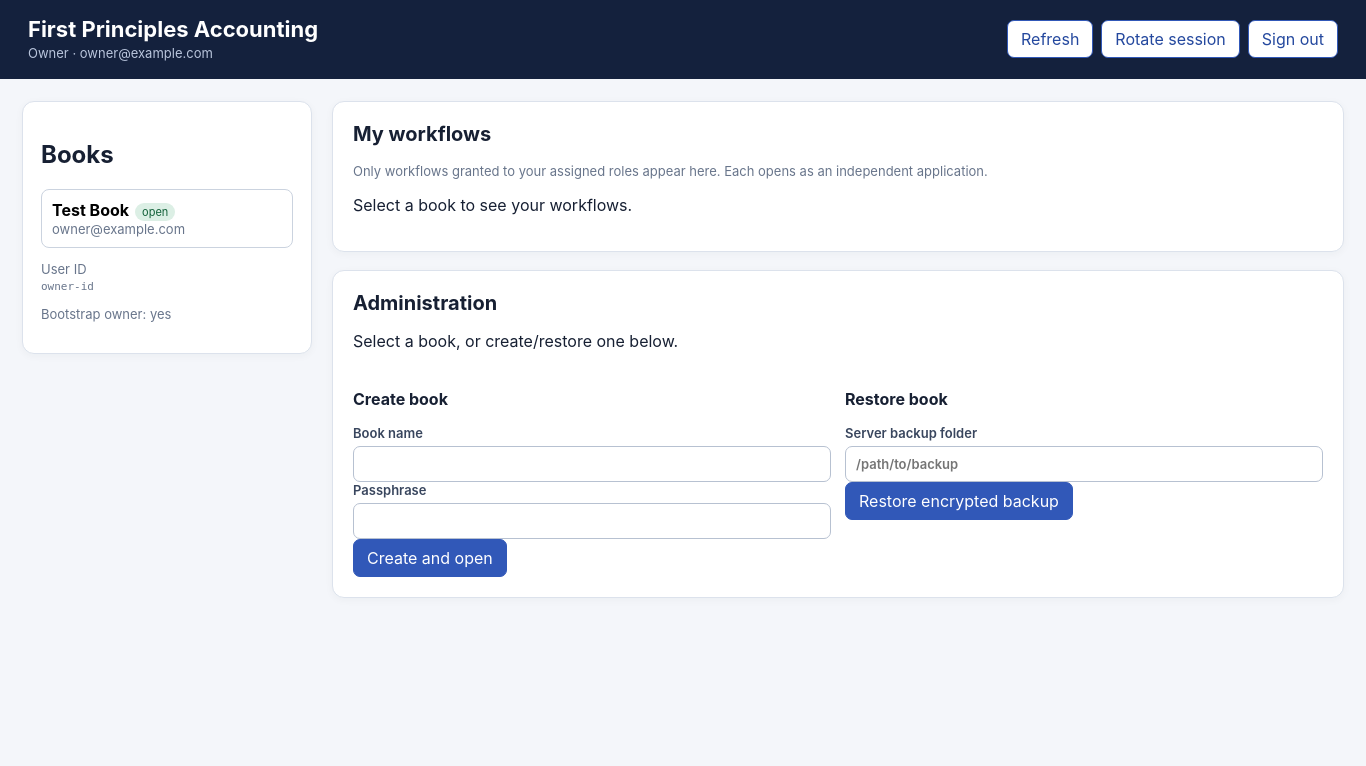
Test: FPA application shell › shows a rejected journal entry beside the form and restores its submit button
The image size is (1366, 766).
Click the button "Test Book open owner@example.com". click: {"x": 167, "y": 218}
box: [41, 189, 293, 248]
(page scrolled)
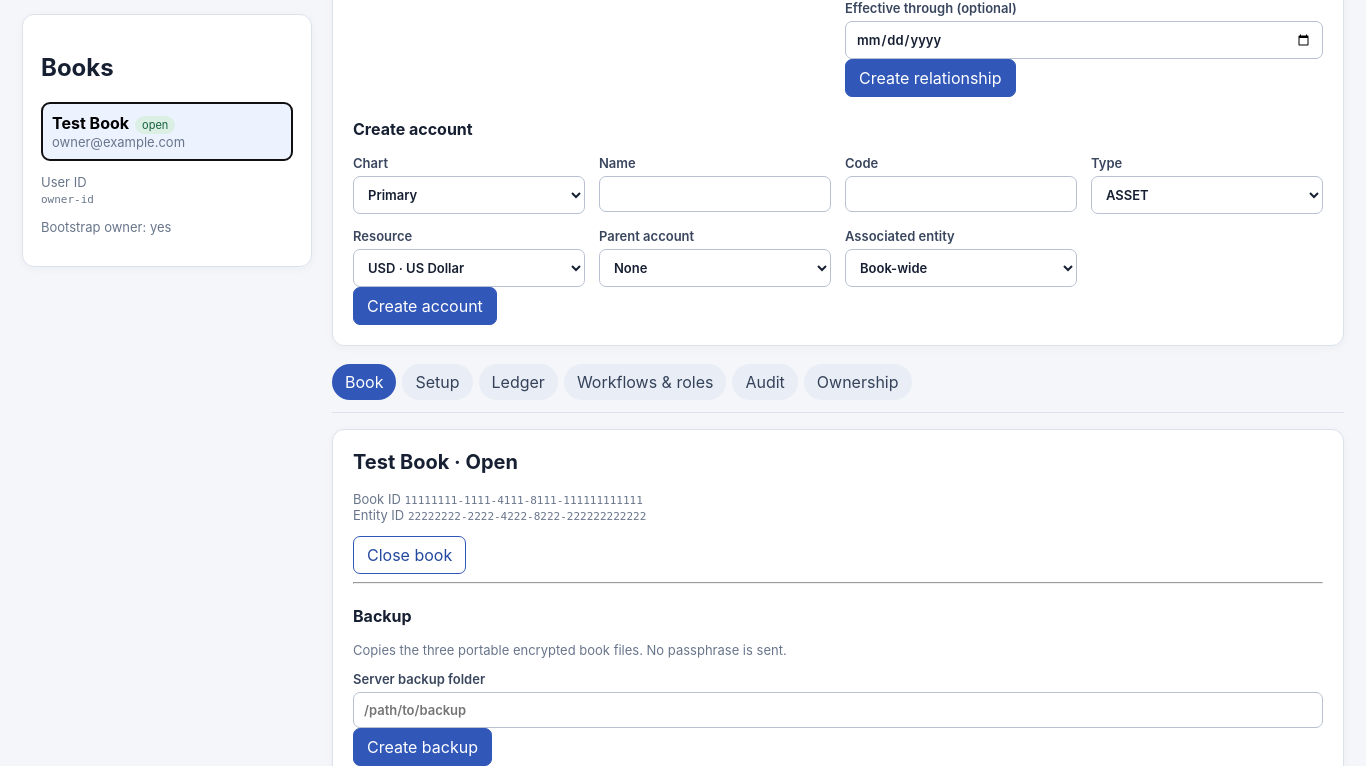
Click the button "Ledger". click: {"x": 518, "y": 382}
box: [478, 364, 558, 400]
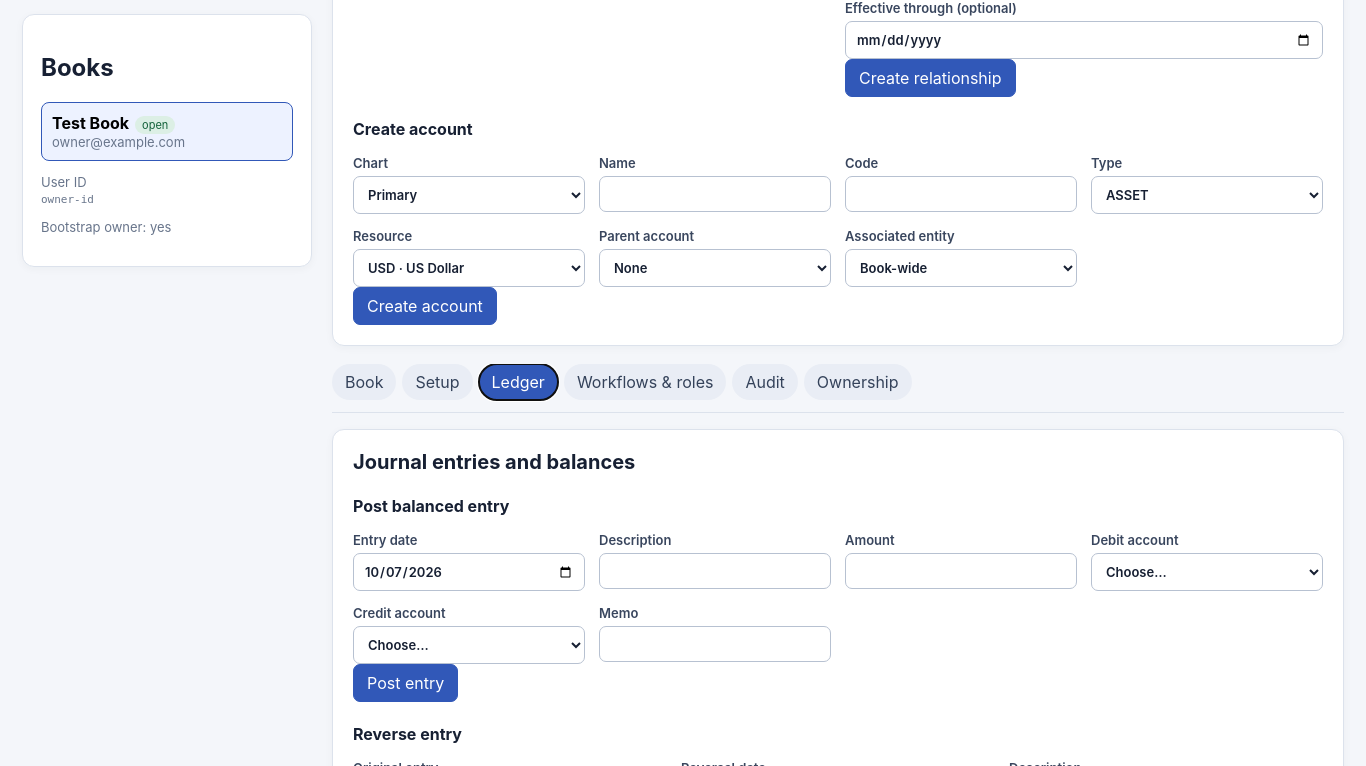
Type "Filing fee" into the field labelled "Description". click: {"x": 715, "y": 571}
box: [599, 553, 831, 589]
Type "75.00" into the field labelled "Amount". click: {"x": 961, "y": 571}
box: [845, 553, 1077, 589]
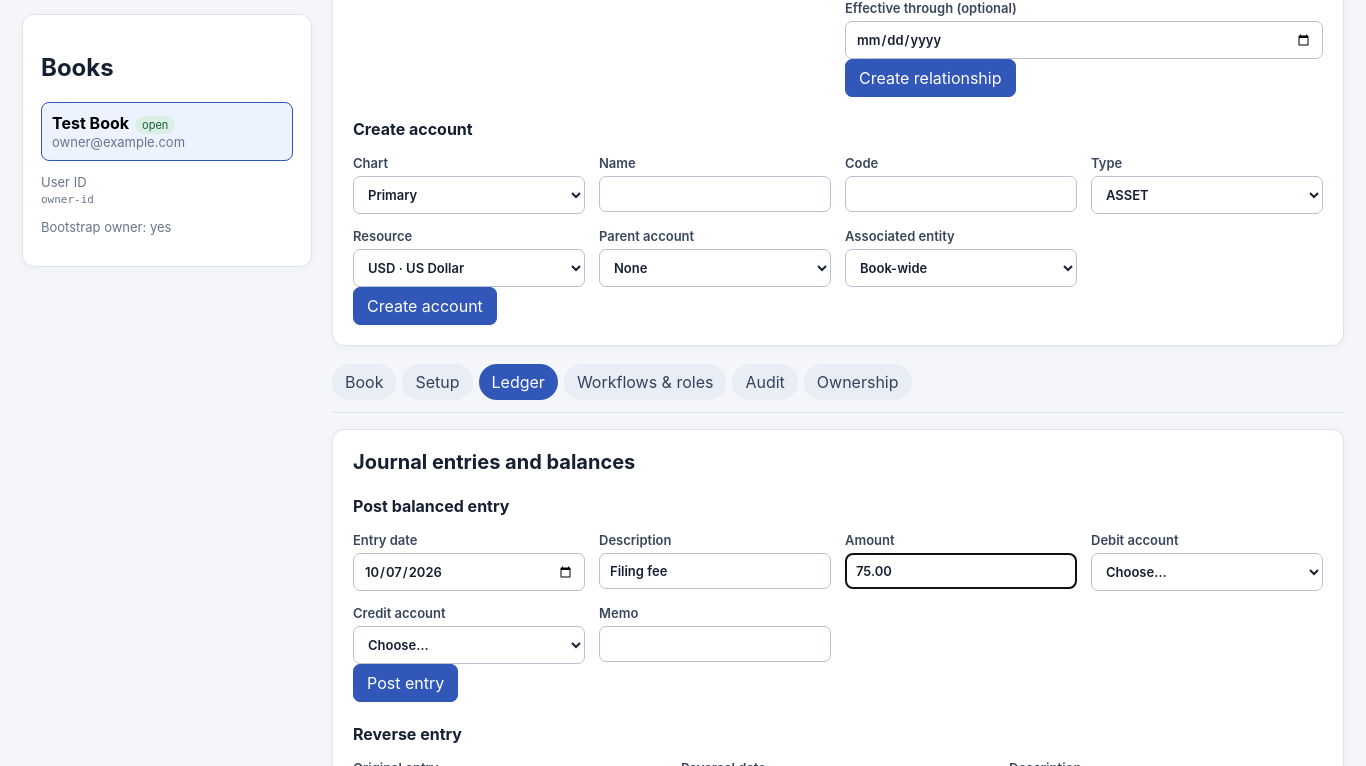
Select "Expense" in the dropdown labelled "Debit account". click: {"x": 1207, "y": 572}
box: [1091, 553, 1323, 591]
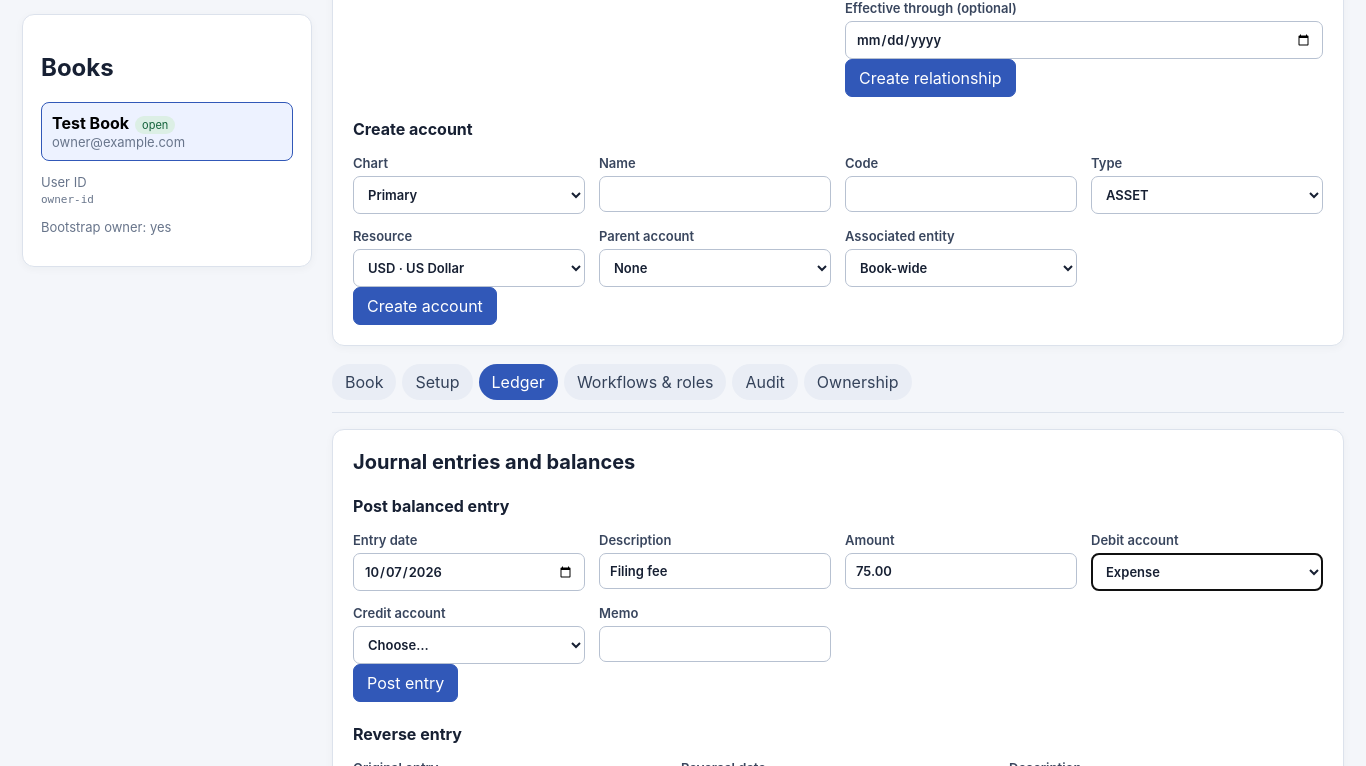
Select "Cash" in the dropdown labelled "Credit account". click: {"x": 469, "y": 645}
box: [353, 626, 585, 664]
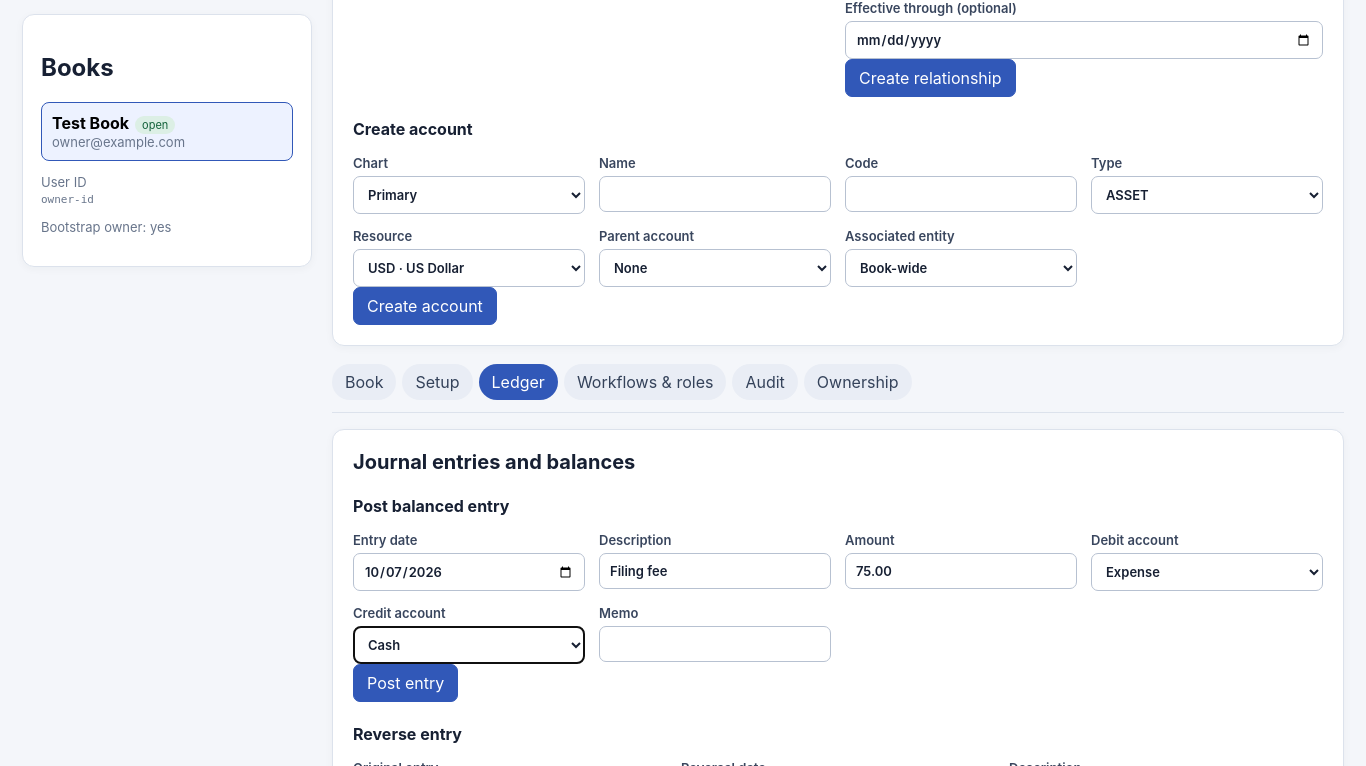
Click the button "Post entry". click: {"x": 406, "y": 683}
box: [353, 664, 458, 702]
(page scrolled)
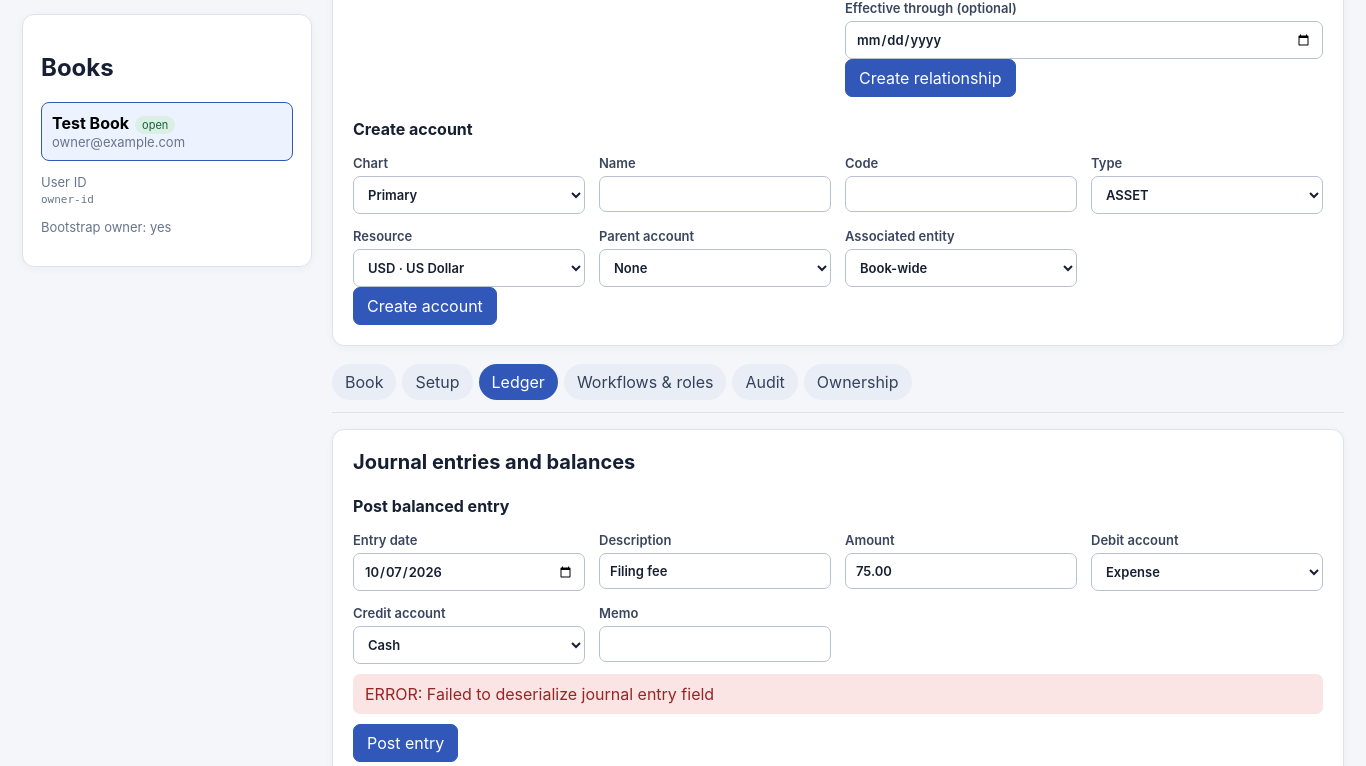
expect the button "Post entry" is enabled: met, box [353, 724, 458, 762]
expect the message shows "Failed to deserialize journal entry field": met, box [365, 684, 714, 704]
